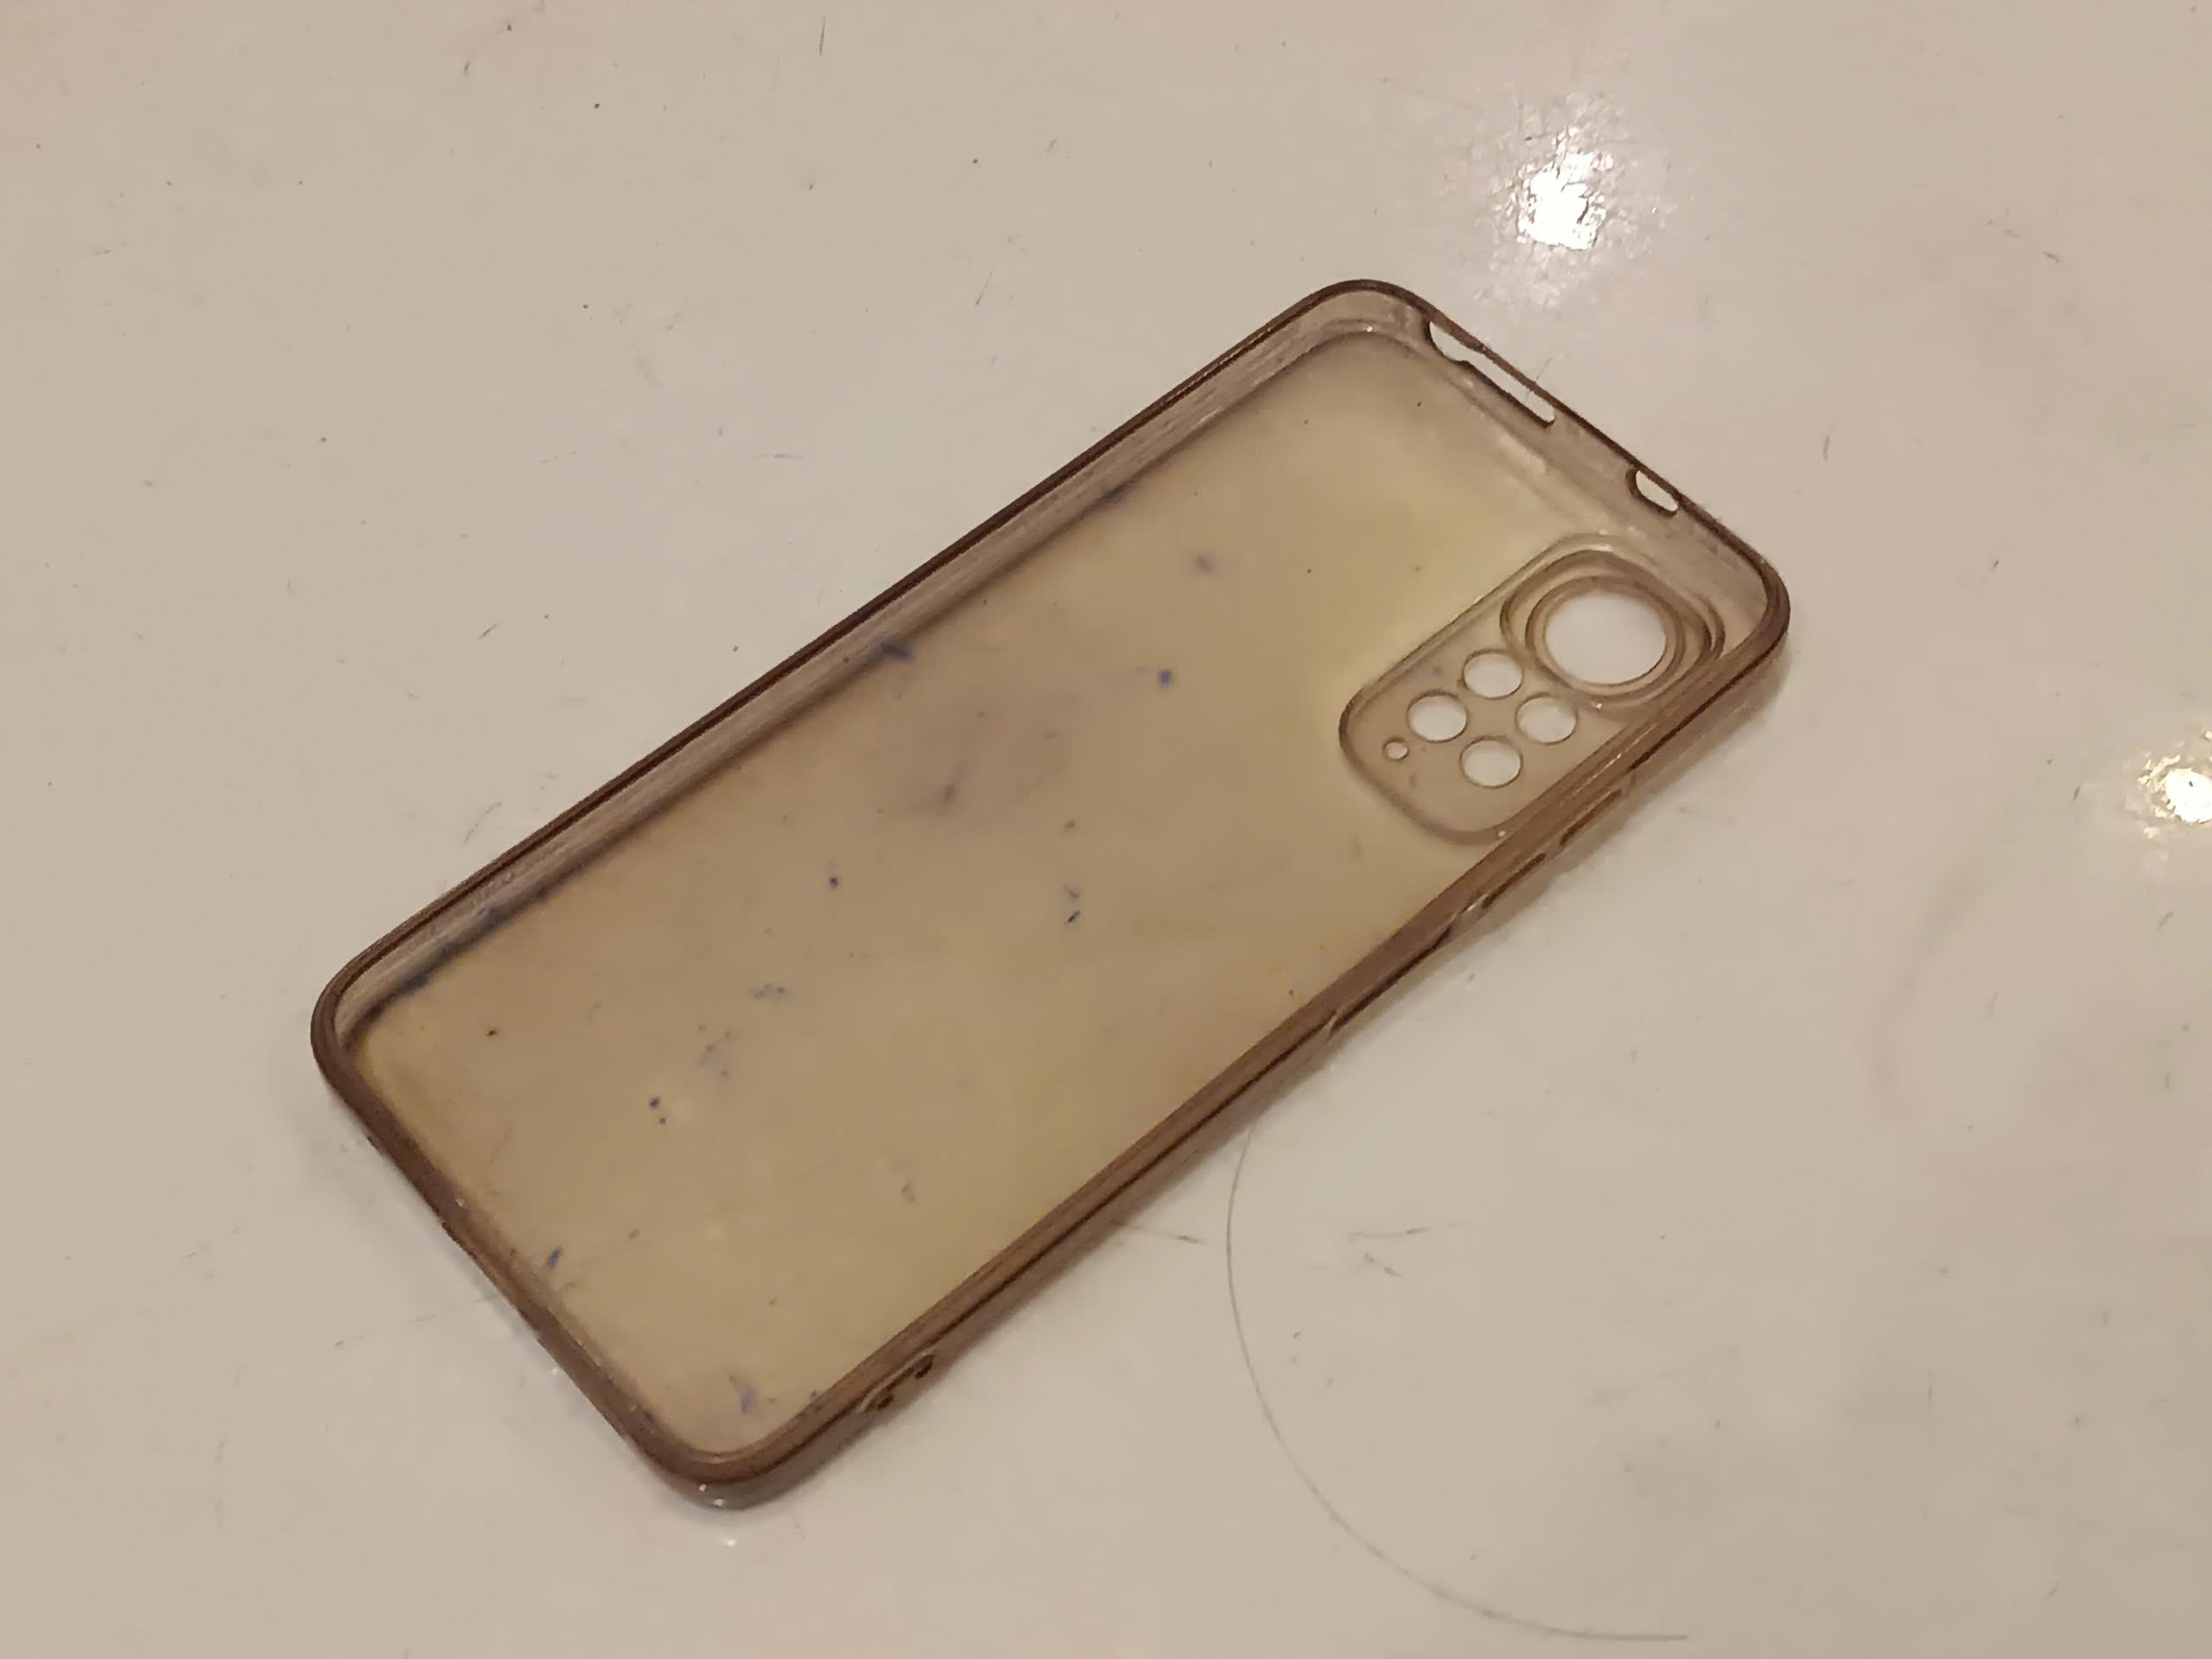Vo co: (312, 281, 1791, 1509)
